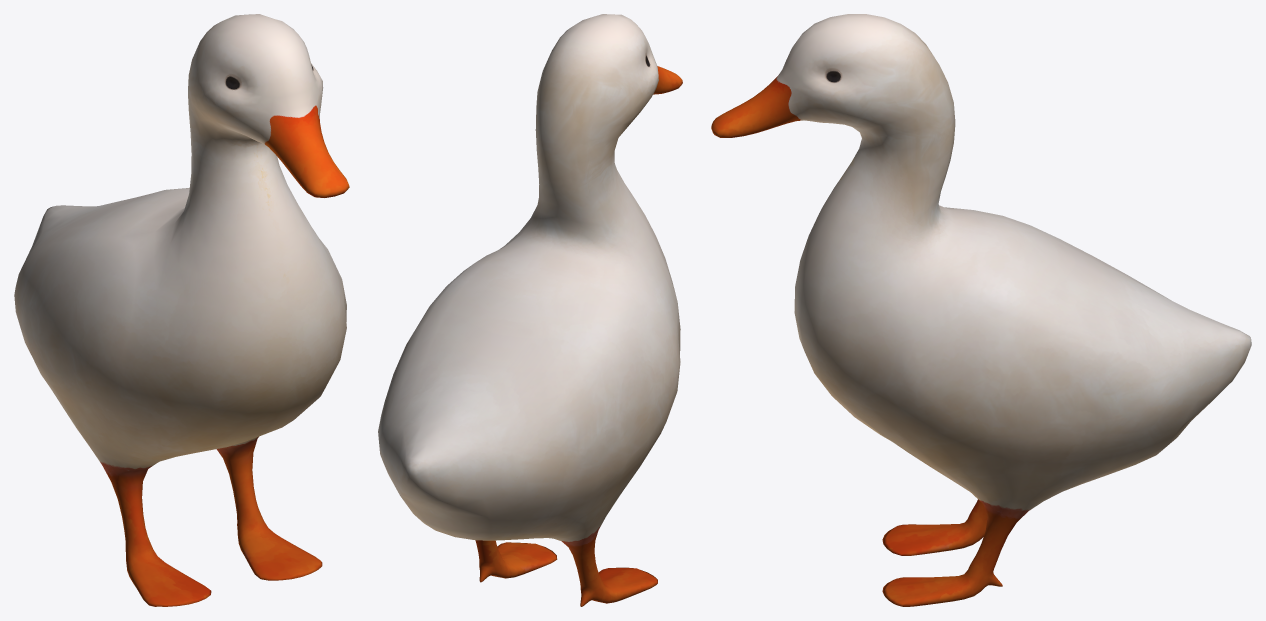
The model's file is duck.fbx.
3 views of the same model, side by side, from view 1: azimuth 30°, elevation 25°; view 2: azimuth 150°, elevation 25°; view 3: azimuth 270°, elevation 25° (orthographic). The views are drawn at different scales.
Parts seen in each view (by area): view 1: Duck; view 2: Duck; view 3: Duck.
Part boxes in pixels (x1=…): Duck: x1=14, y1=14, x2=349, y2=606; Duck: x1=378, y1=14, x2=682, y2=606; Duck: x1=711, y1=14, x2=1251, y2=606.
Size of the model in its own units: 24.09 by 53.12 by 47.27.
Materials: 1 (1 with a texture image).
